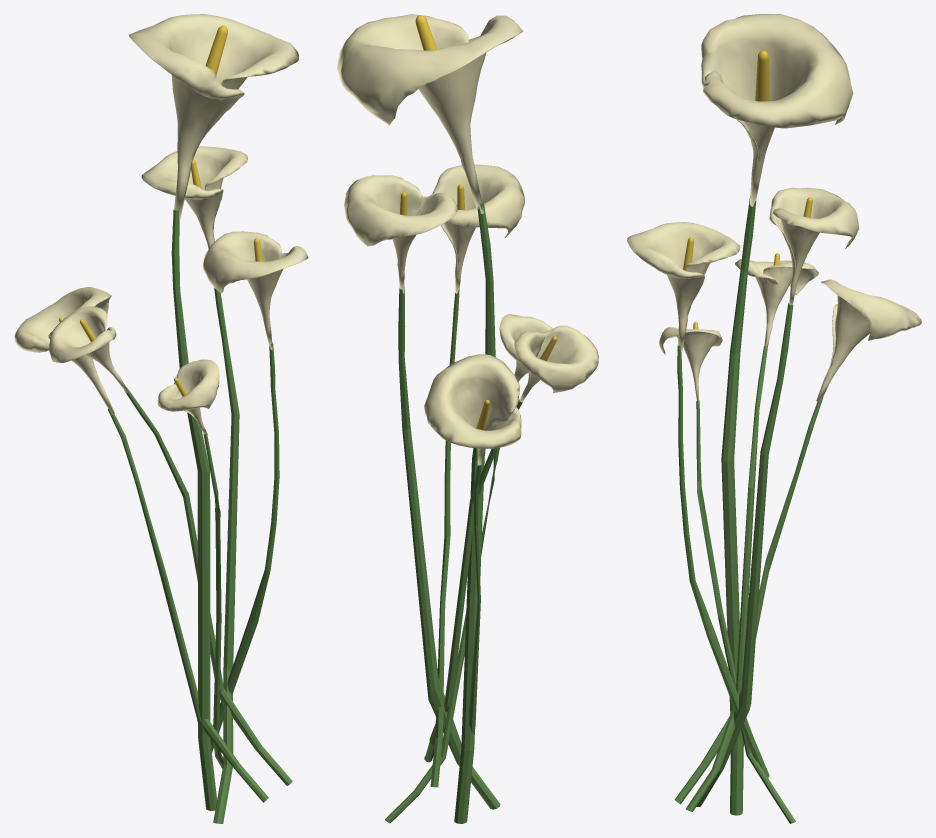
File: CalolilyFernBunch.fbx
3 views of the same model, side by side, from view 1: azimuth 30°, elevation 25°; view 2: azimuth 150°, elevation 25°; view 3: azimuth 270°, elevation 25° (orthographic). The views are drawn at different scales.
Visible parts, largest first — view 1: Cylinder, Sphere.001; view 2: Cylinder; view 3: Cylinder, Sphere.001.
Part boxes in pixels (x1=…): Cylinder: x1=14, y1=14, x2=308, y2=823; Sphere.001: x1=205, y1=25, x2=227, y2=75; Cylinder: x1=337, y1=14, x2=598, y2=823; Cylinder: x1=627, y1=14, x2=921, y2=823; Sphere.001: x1=755, y1=50, x2=769, y2=101.
Bounding box in the file's own units: 78.57 × 246 × 84.87.
